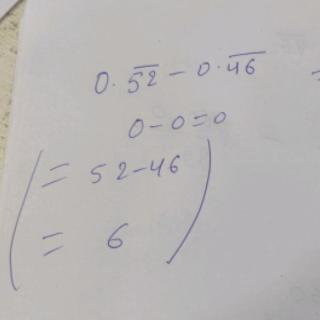.: (109, 78, 118, 87), (215, 62, 224, 70)
0: (95, 68, 109, 94), (129, 118, 145, 139), (212, 110, 228, 124), (198, 59, 210, 77), (172, 115, 186, 130)
2: (116, 161, 128, 180), (147, 69, 159, 87)
4: (151, 155, 166, 176), (228, 60, 241, 75)
5: (127, 71, 144, 93), (90, 162, 106, 184)
6: (107, 222, 130, 251), (245, 56, 257, 76), (170, 153, 181, 174)
